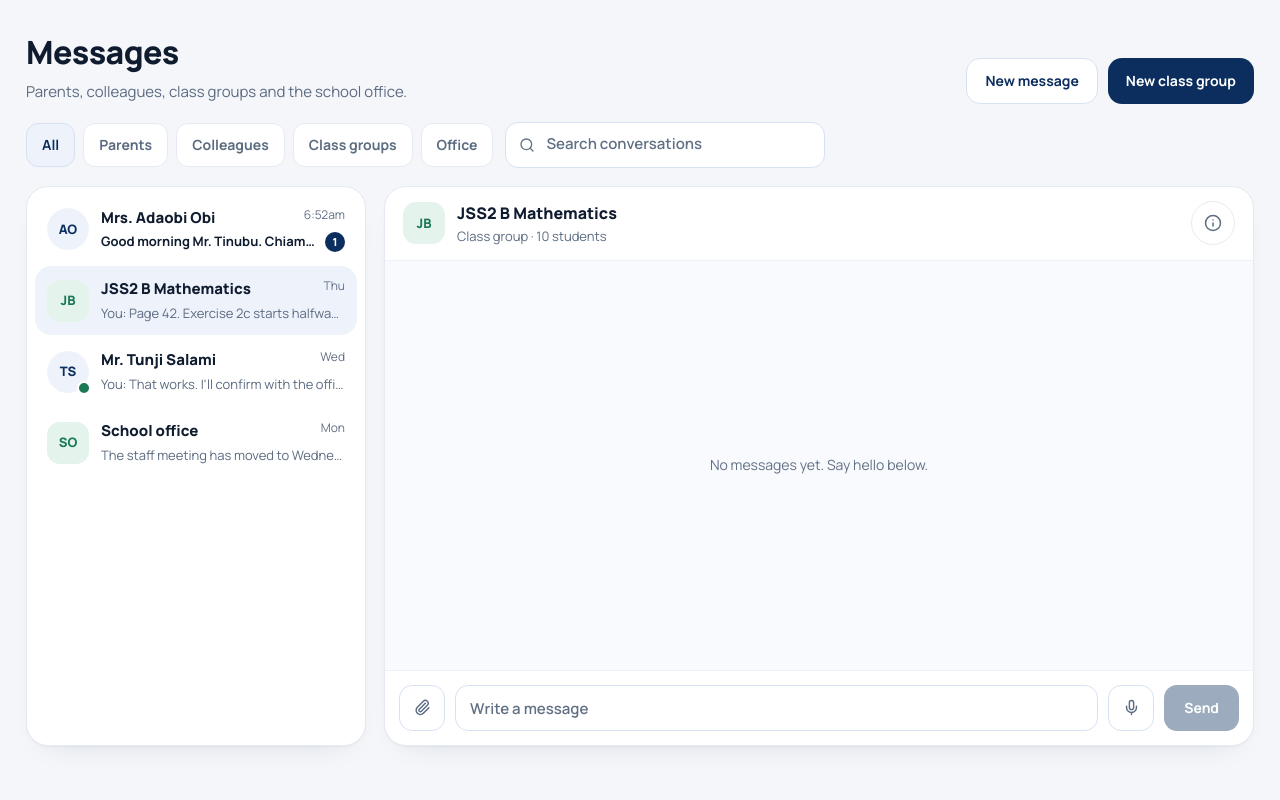
Test: the info modal › lists Members, Images, Videos, Documents and Links with counts, and pages the media
Click the button named "Conversation info". click: (1213, 223)
box: left=1191, top=201, right=1235, bottom=245
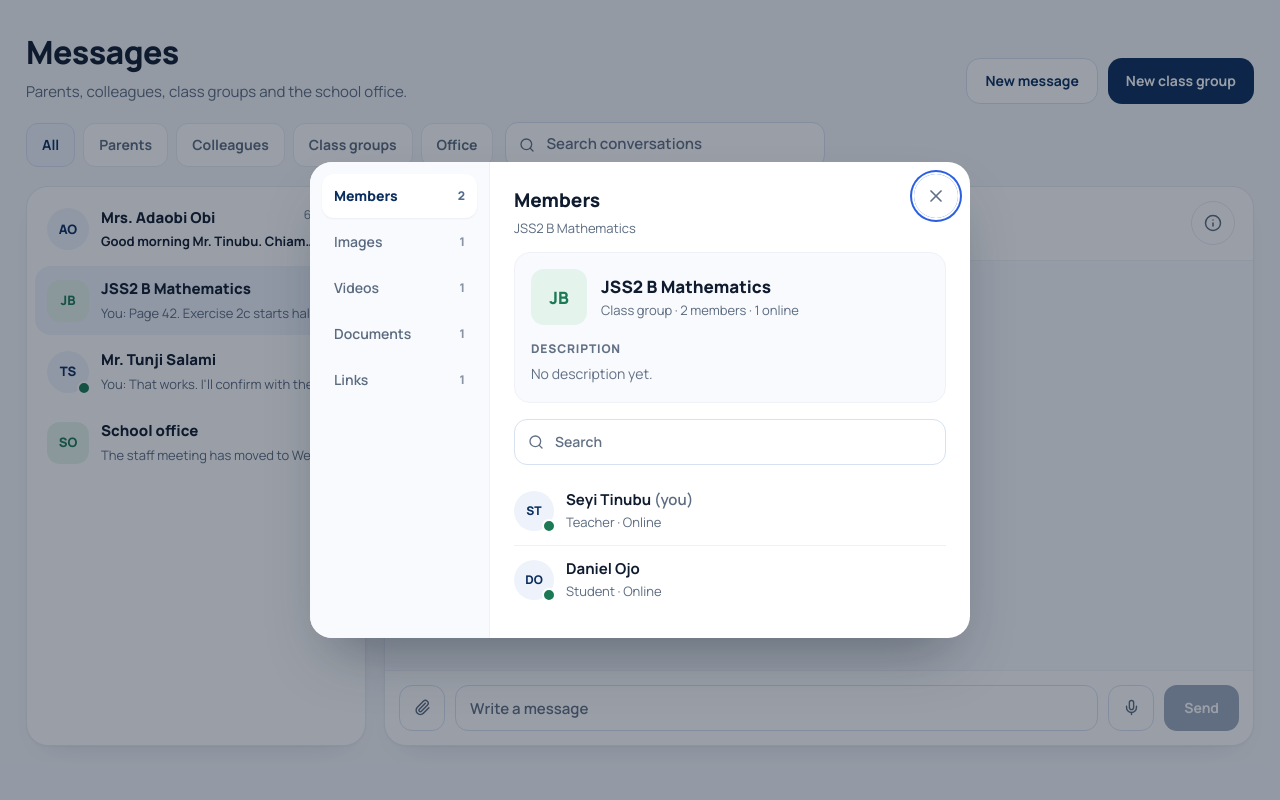
Now the tab "Documents 1" is shown
Now the tab "Videos 1" is shown, box left=322, top=266, right=477, bottom=310
Click the tab "Documents 1". click: (400, 334)
box: left=322, top=312, right=477, bottom=356
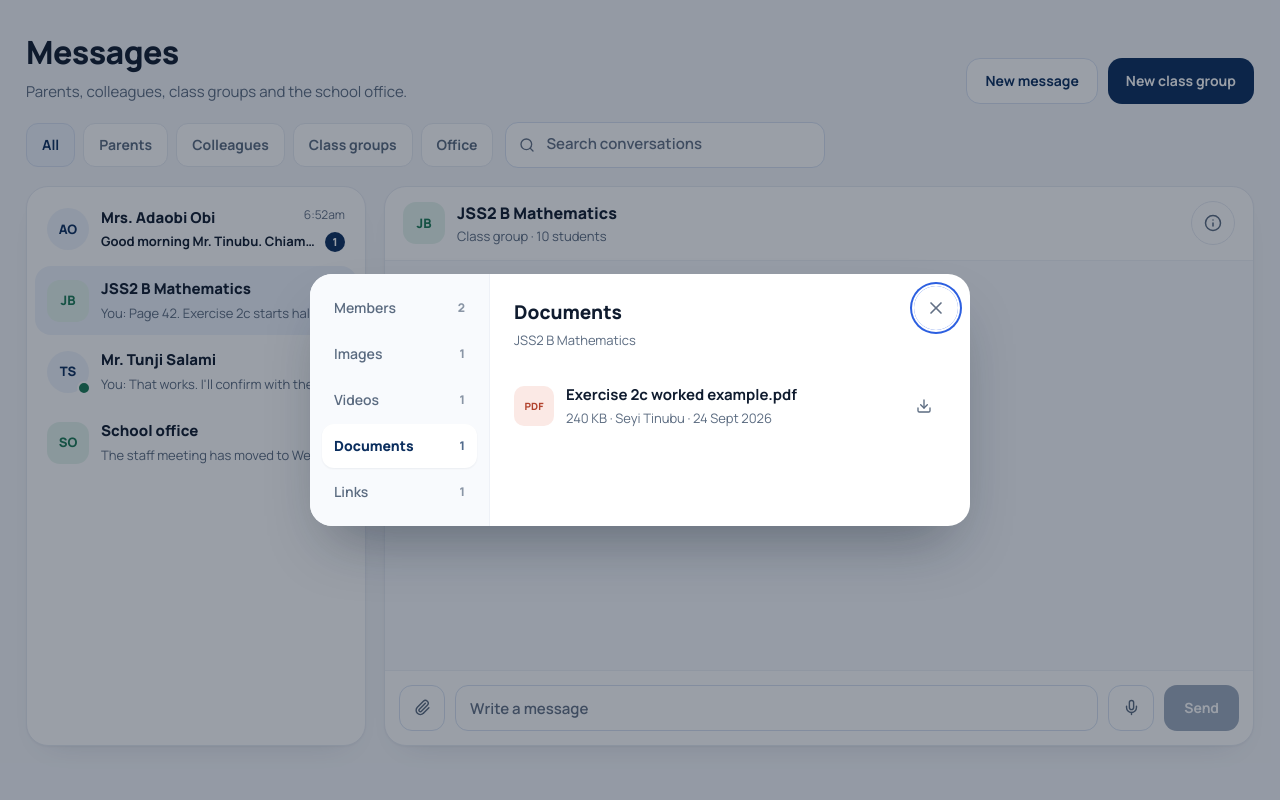
Now the text "Exercise 2c worked example.pdf" is shown, box left=566, top=384, right=797, bottom=405
Click the tab "Links 1". click: (400, 492)
box: left=322, top=470, right=477, bottom=514
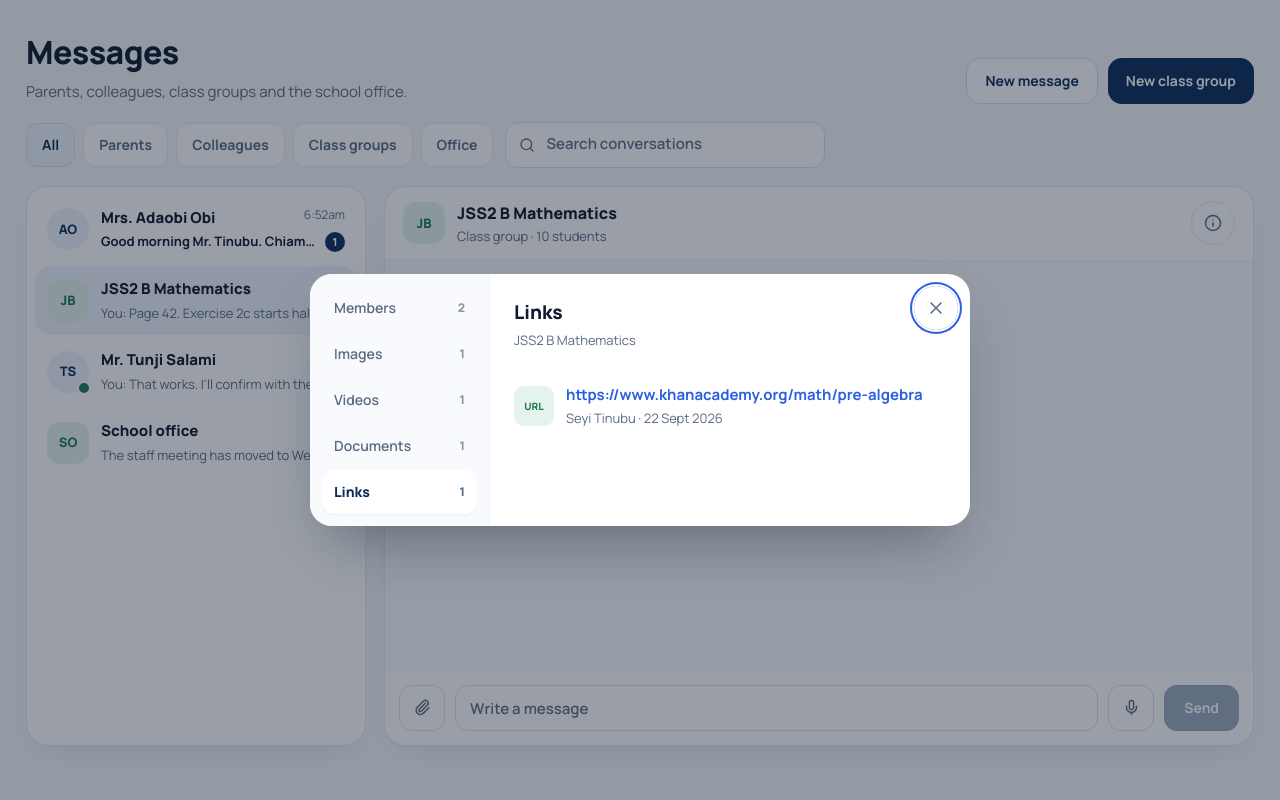
Now the link "https://www.khanacademy.org/math/pre-algebra" is shown, box left=566, top=384, right=946, bottom=406
